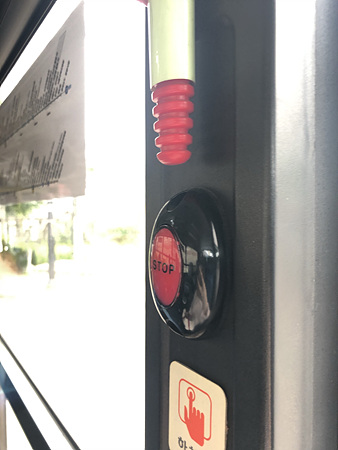bell: (149, 188, 228, 339)
